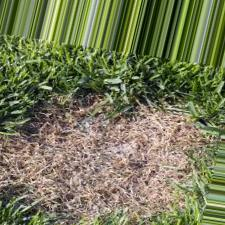patch: (13, 144, 99, 202), (106, 147, 170, 205), (59, 123, 141, 140), (147, 117, 188, 144), (27, 125, 55, 139), (173, 150, 187, 174)
